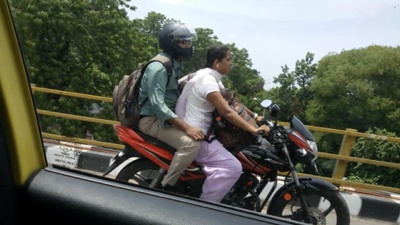helmet: (157, 18, 200, 60)
